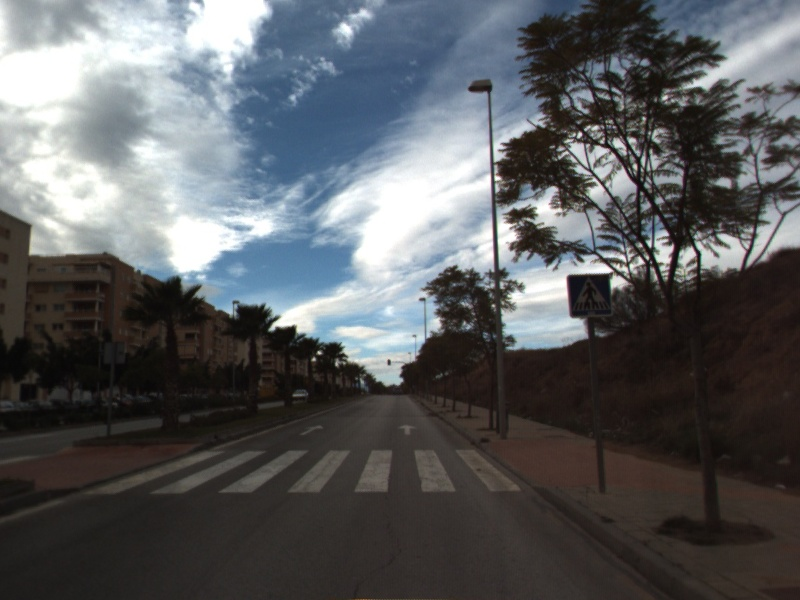STRAIGHT: (297, 423, 325, 437), (396, 422, 419, 437)
